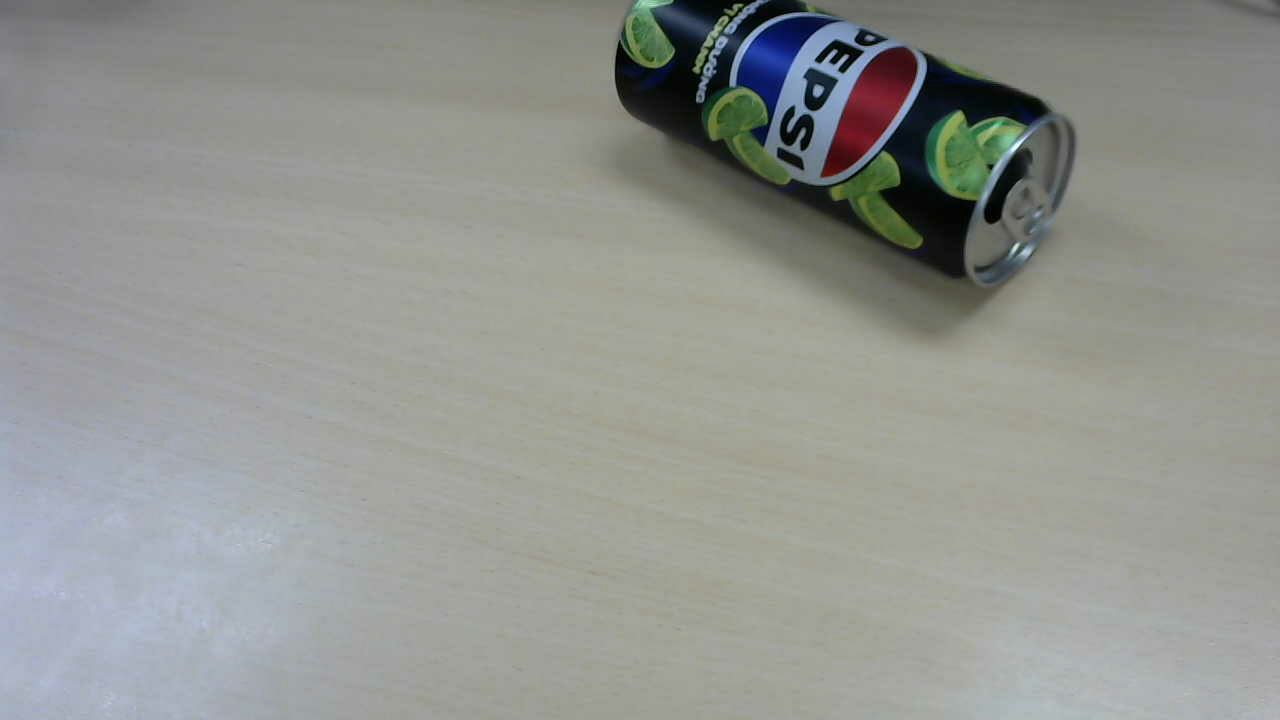Pepsi: (619, 5, 1081, 292)
